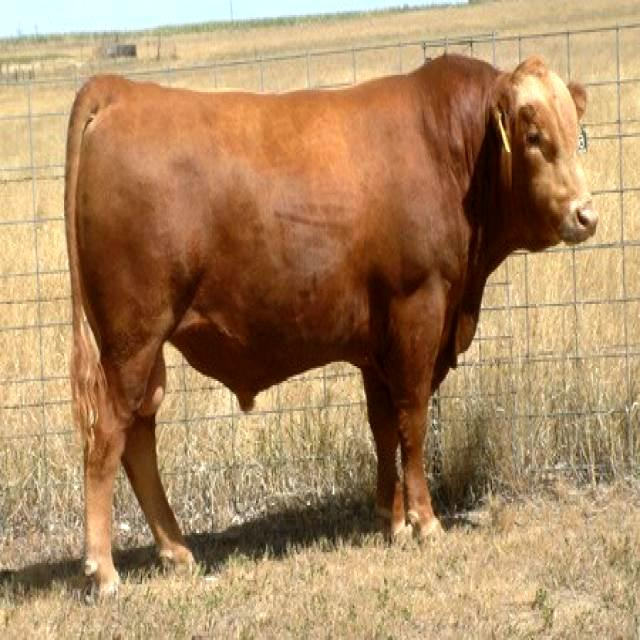COW: (65, 55, 598, 594)
